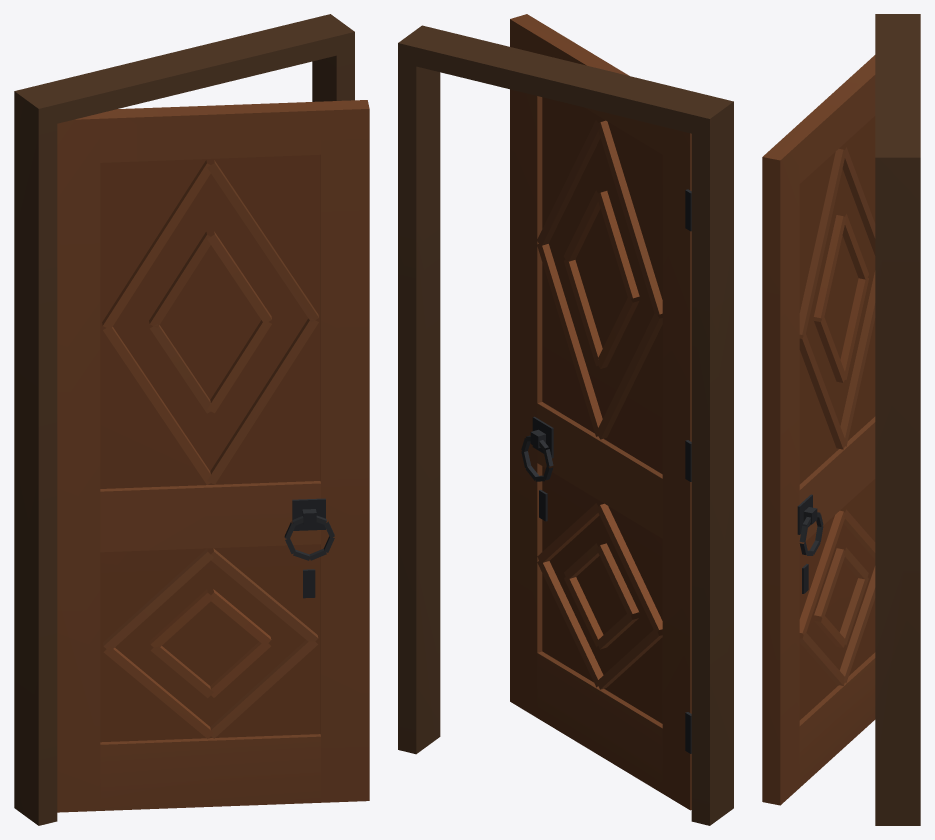
File: door.oak_slim_ajar.diamond.glb
3 renders of one model, left to right at view 1: azimuth 30°, elevation 25°; view 2: azimuth 150°, elevation 25°; view 3: azimuth 270°, elevation 25°, orthographic. The views are drawn at different scales.
Visible parts, largest first — view 1: door_oak_slim_ajar_diamond; view 2: door_oak_slim_ajar_diamond; view 3: door_oak_slim_ajar_diamond.
Part boxes in pixels (x1,y1,x2,y2): door_oak_slim_ajar_diamond: (14,14,369,825); door_oak_slim_ajar_diamond: (398,14,733,825); door_oak_slim_ajar_diamond: (762,14,920,825).
Size of what is drawn, in the model's own units: 1.2 by 2.6 by 0.5579.
